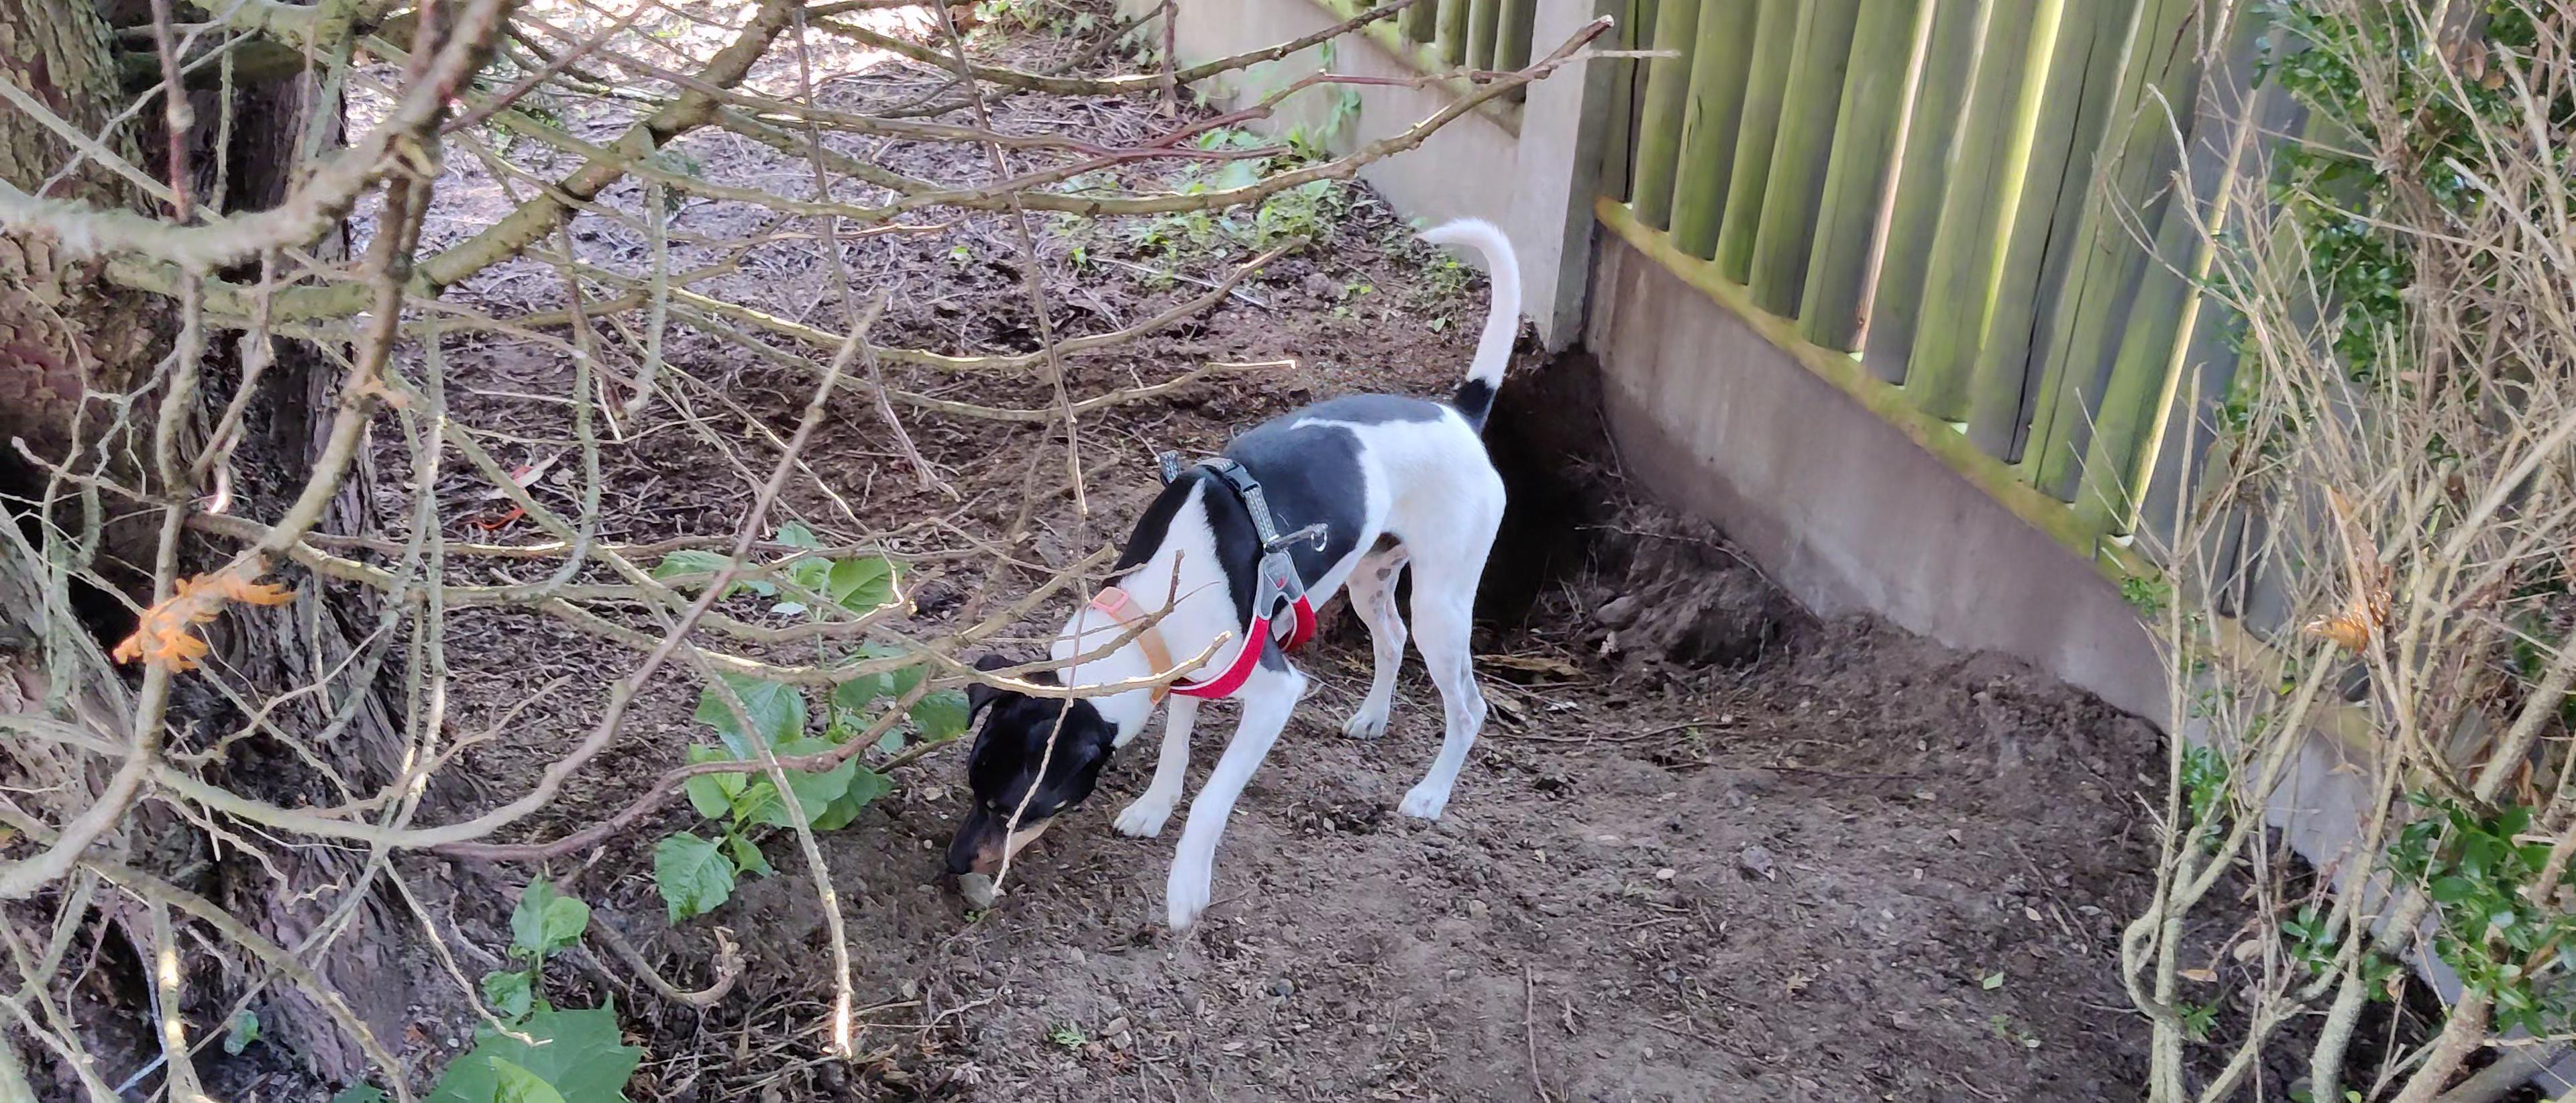Dog: (904, 215, 1538, 937)
